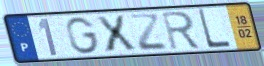1: (37, 17, 59, 58)
G: (65, 16, 102, 55)
L: (196, 8, 234, 51)
R: (160, 10, 203, 52)
X: (93, 14, 138, 54)
Z: (128, 13, 170, 53)
